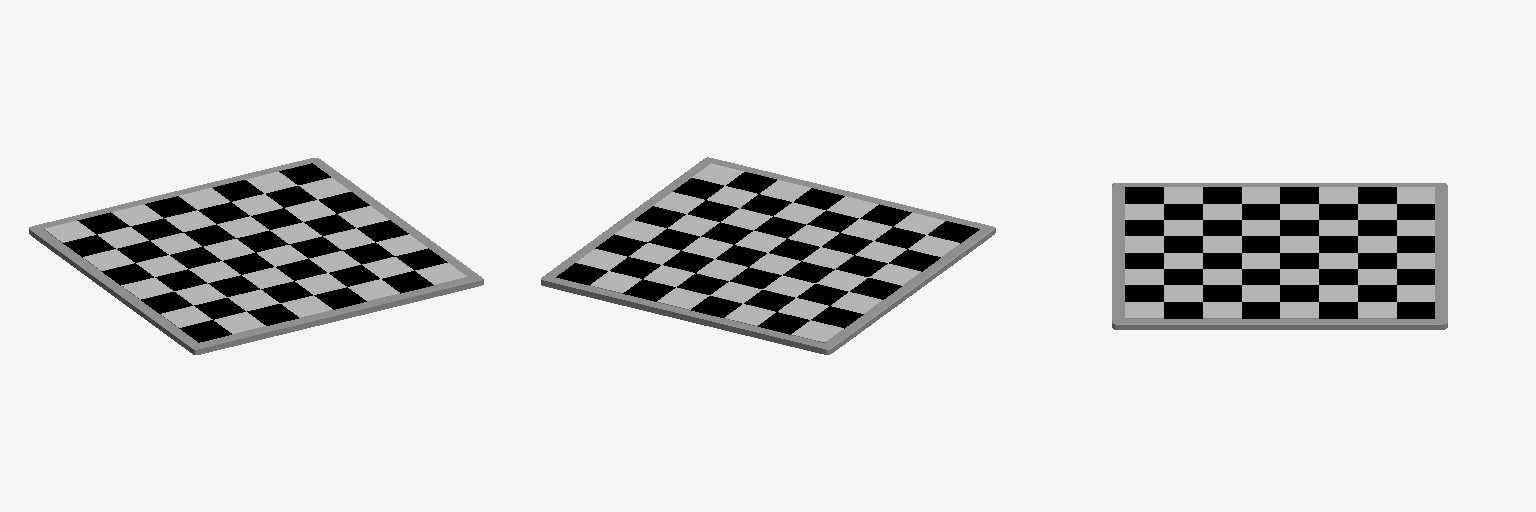
Rendered from board.obj.
3 renders of one model, left to right at view 1: azimuth 30°, elevation 25°; view 2: azimuth 150°, elevation 25°; view 3: azimuth 270°, elevation 25°, orthographic.
Parts seen in each view (by area): view 1: Plane.001_Plane.002, Plane.002_Plane.001, Plane_Plane.003; view 2: Plane.001_Plane.002, Plane.002_Plane.001, Plane_Plane.003; view 3: Plane.001_Plane.002, Plane.002_Plane.001, Plane_Plane.003.
Boxes of the visible parts, <box> form: Plane.001_Plane.002: <box>63,163,447,342</box>; Plane.002_Plane.001: <box>44,171,466,334</box>; Plane_Plane.003: <box>29,158,483,354</box>; Plane.001_Plane.002: <box>556,172,979,334</box>; Plane.002_Plane.001: <box>576,163,959,342</box>; Plane_Plane.003: <box>541,157,995,354</box>; Plane.001_Plane.002: <box>1125,187,1434,318</box>; Plane.002_Plane.001: <box>1125,187,1434,318</box>; Plane_Plane.003: <box>1112,183,1447,329</box>.
Size of the model in its own units: 17.29 by 0.3642 by 17.29.